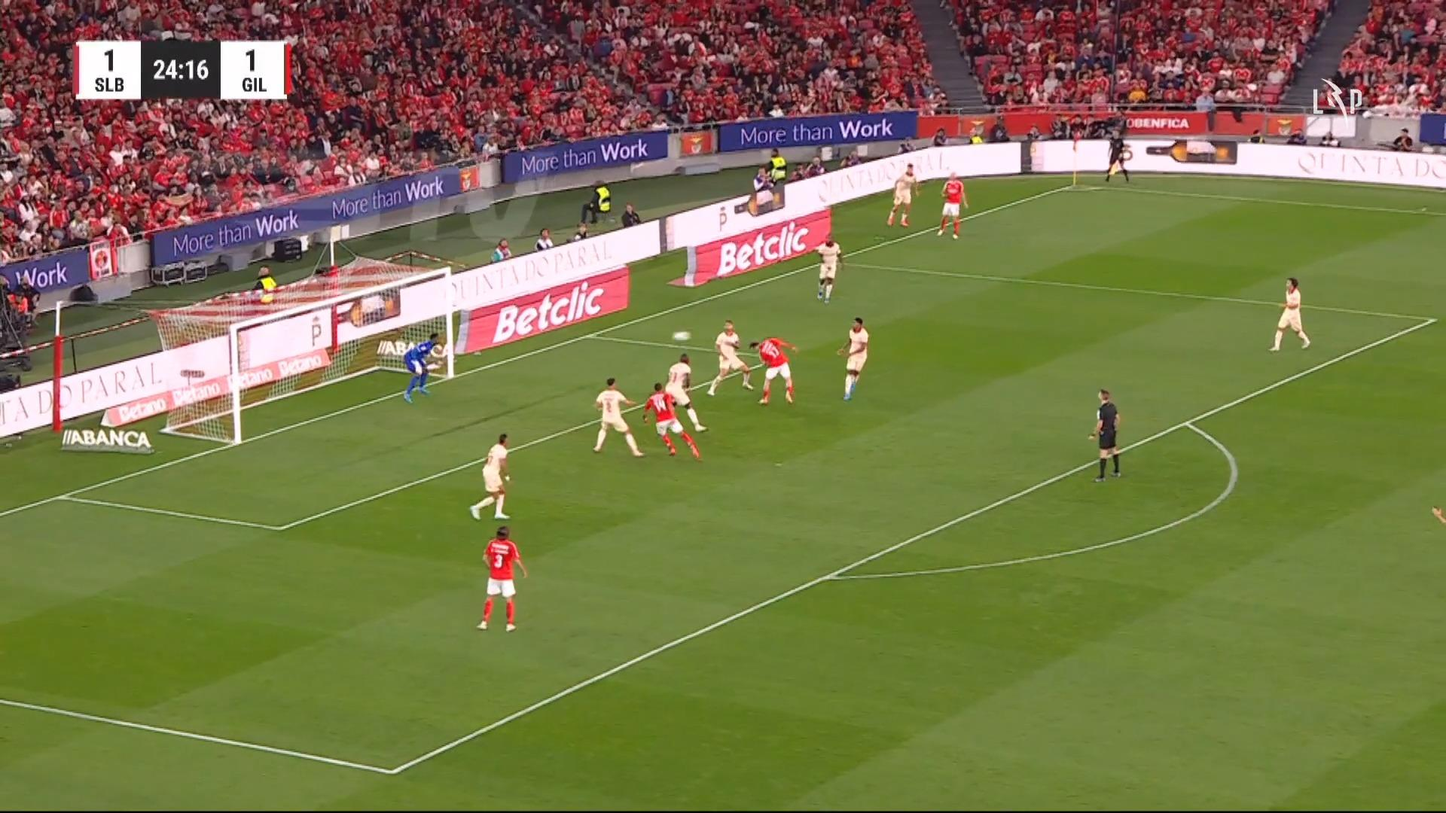ball: (672, 330, 691, 341)
goalkeeper: (401, 334, 446, 403)
player: (475, 525, 527, 632), (642, 382, 701, 460), (591, 376, 645, 457), (468, 433, 512, 521), (706, 320, 755, 396), (664, 352, 708, 433), (748, 336, 798, 405), (1268, 276, 1310, 352), (836, 316, 869, 400), (886, 162, 920, 228), (936, 172, 969, 239), (813, 233, 842, 303)
referee: (1088, 388, 1122, 482), (1103, 130, 1131, 182)
